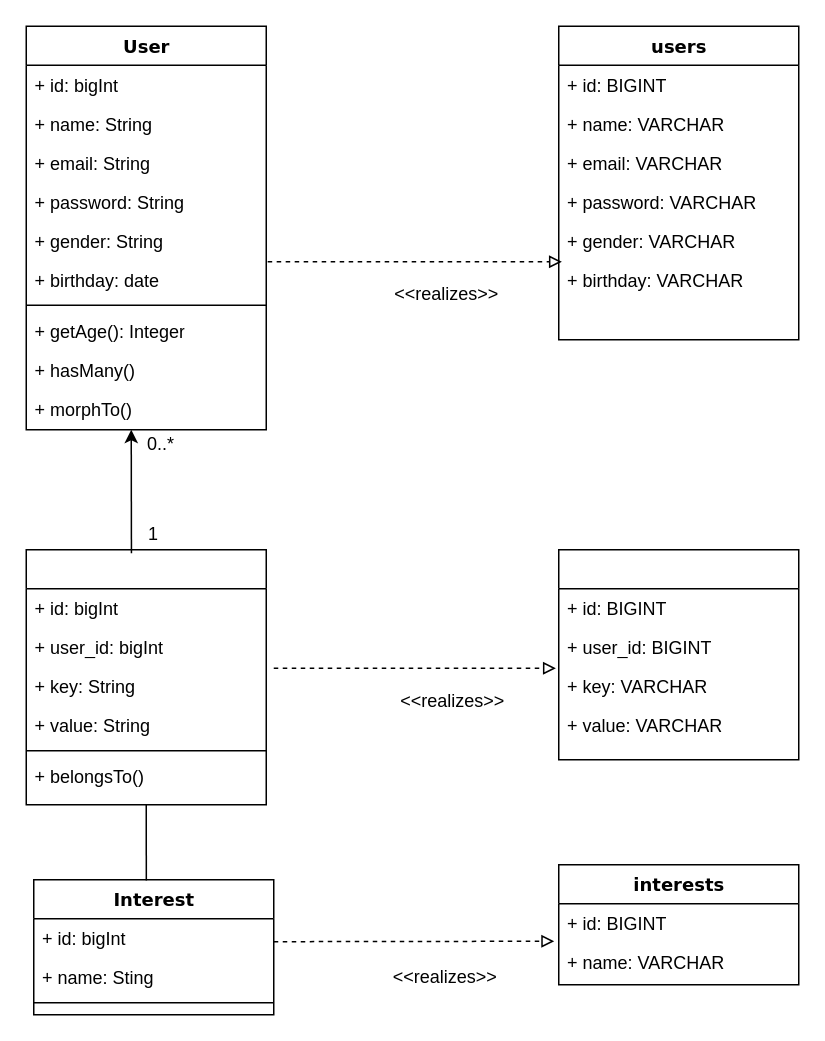
Some shapes in this 825 by 1041 pixel diagram are drawn without their labels. The box of each missing label's shape, as (x1, y1, x2, y2) in pixels:
user_metas: (557, 548, 799, 760)
UserMeta: (25, 548, 266, 805)
